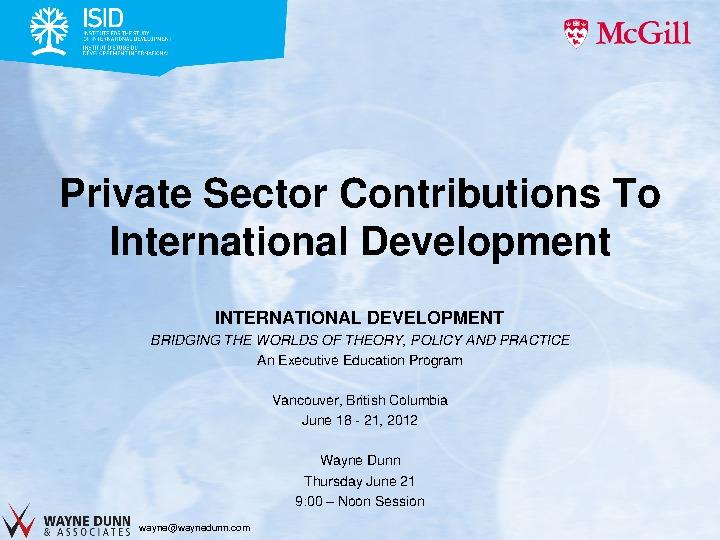subtitle: (136, 301, 646, 512), (51, 154, 700, 284), (39, 507, 260, 540)
title: (80, 1, 711, 75)
